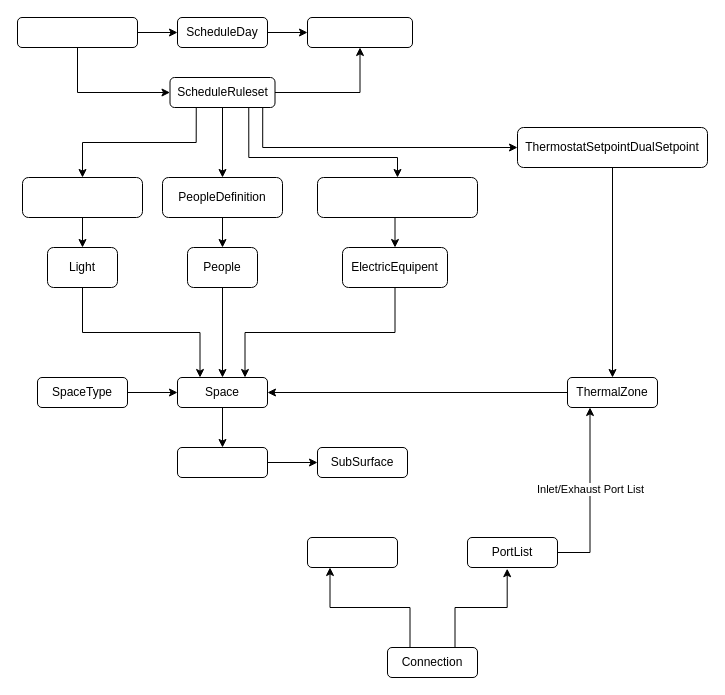
Some shapes in this 725 by 695 pixel diagram are drawn without their labels. Here are the shapes that lost their labels. From the top down, the box of each, then its label:
(16, 16, 138, 48): ScheduleTypeLimits
(306, 16, 412, 48): ScheduleRule
(22, 176, 142, 218): LightDefinition
(316, 176, 478, 218): ElectricEquipmentDefinition
(176, 446, 268, 478): Surface
(306, 536, 398, 568): Node
